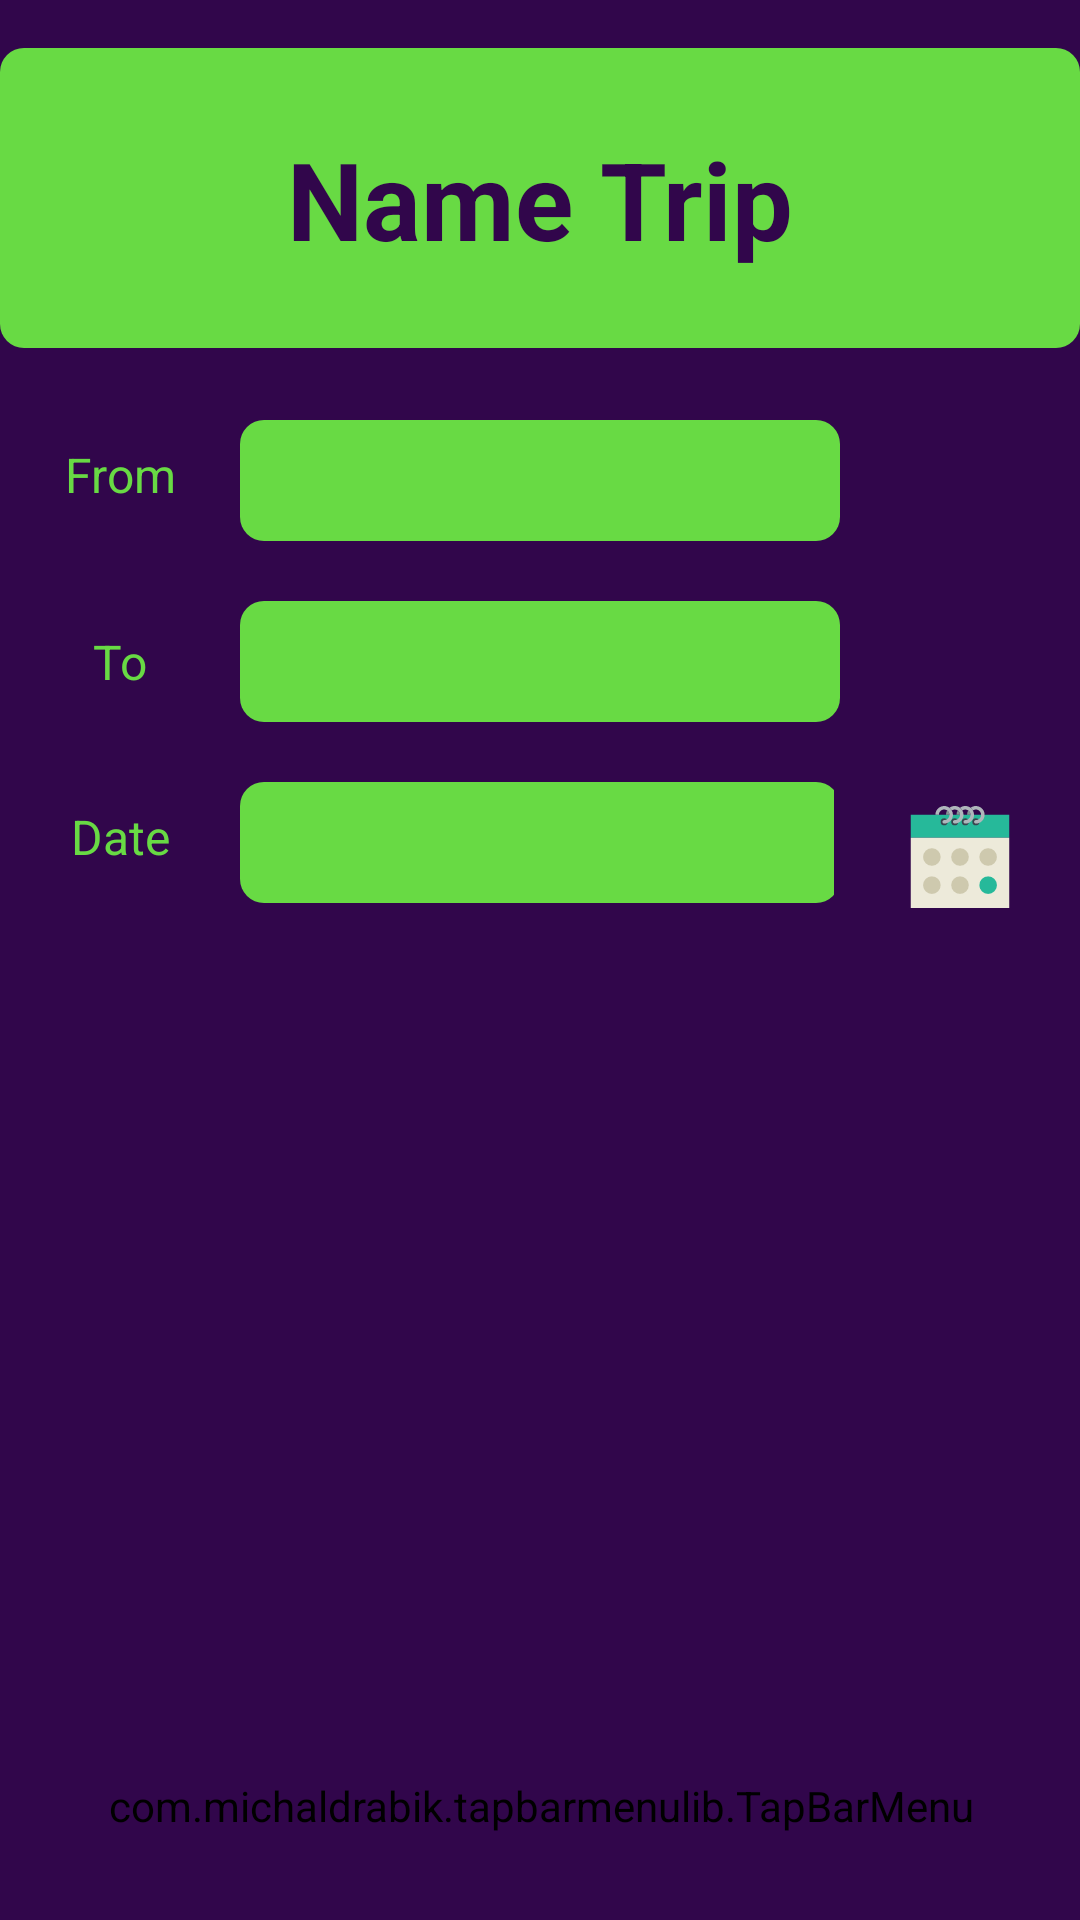

Icons on this 1080 x 1920 Android screen, each with the point to tap as (x,y):
calendar: (960,857)
